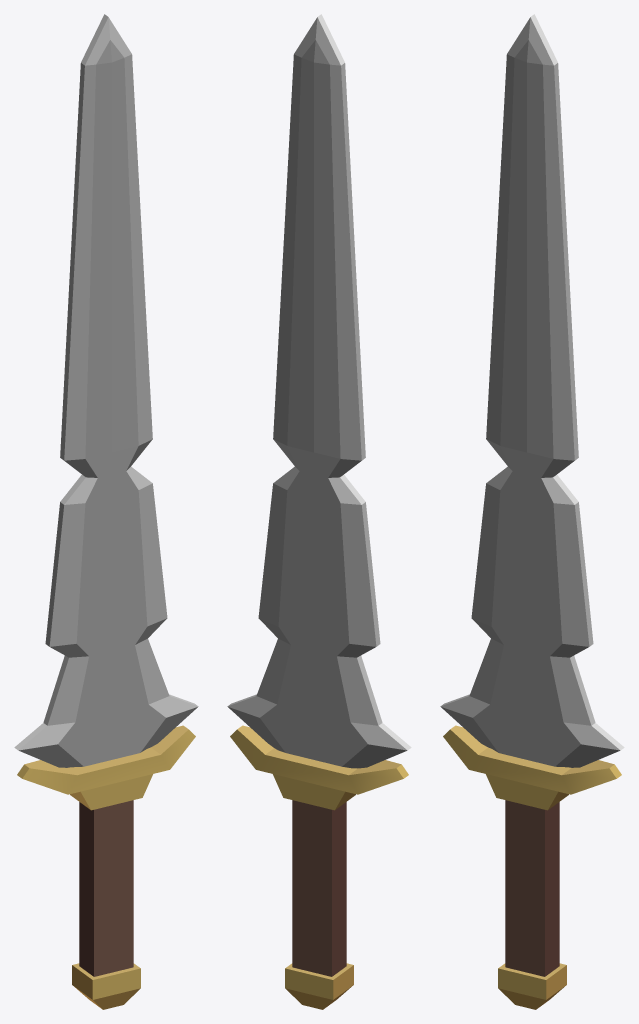
File: epee.fbx
3 renders of one model, left to right at view 1: azimuth 30°, elevation 25°; view 2: azimuth 150°, elevation 25°; view 3: azimuth 330°, elevation 25°, orthographic.
Parts seen in each view (by area): view 1: epeee; view 2: epeee; view 3: epeee.
Part boxes in pixels (<box>): epeee: <box>14,14,198,1009</box>; epeee: <box>227,14,411,1009</box>; epeee: <box>440,14,624,1009</box>.
Bounding box in the file's own units: 0.6045 × 3.16 × 0.1459.
